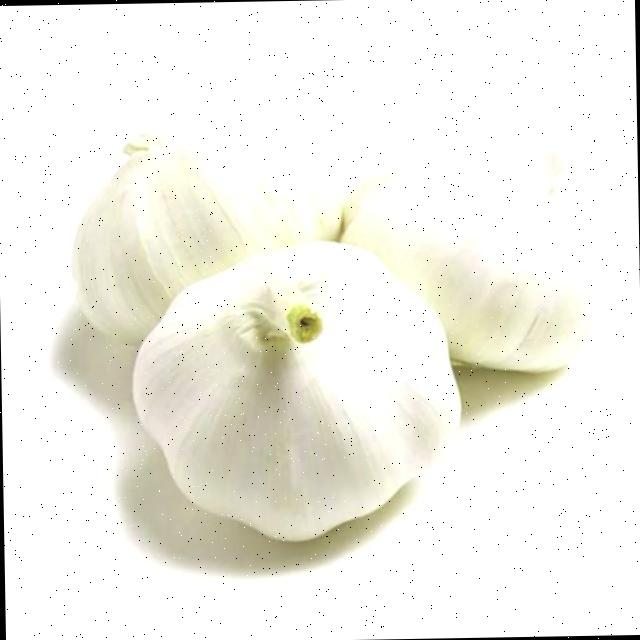garlic: (132, 241, 460, 540), (73, 135, 341, 341), (341, 174, 590, 370)
